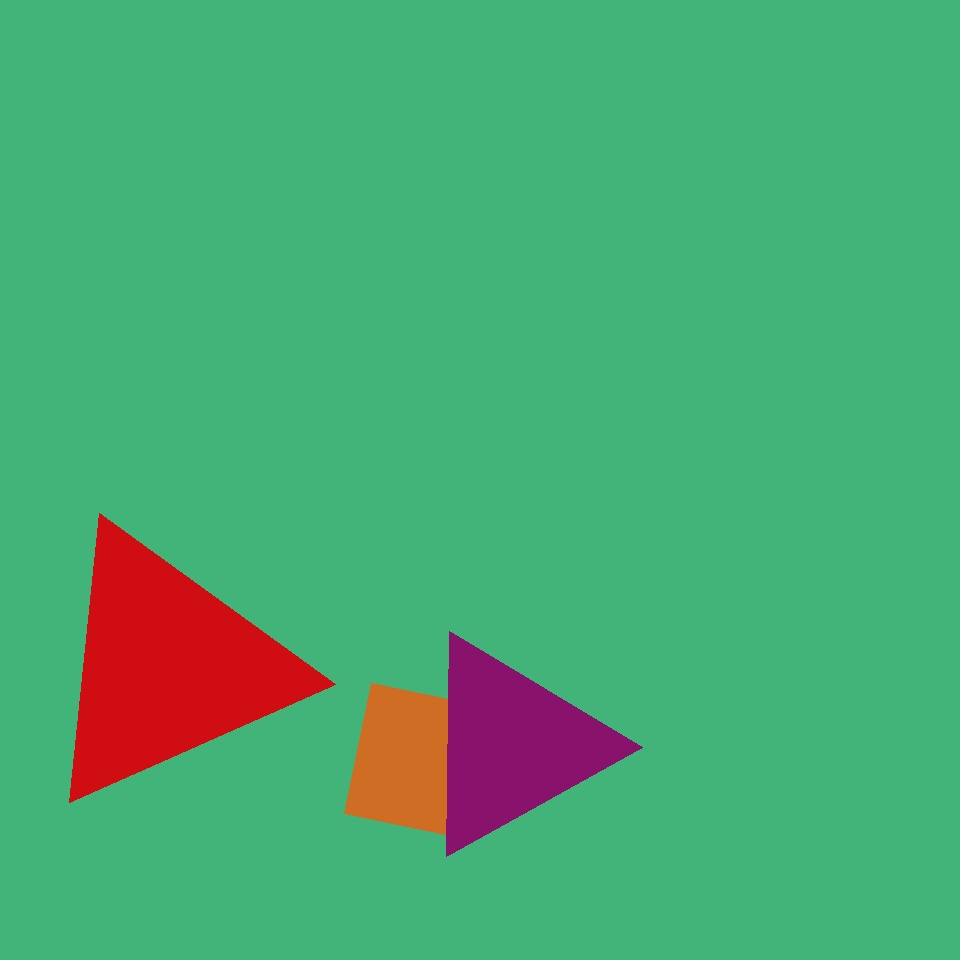circle: (35, 522, 301, 812), (415, 632, 611, 858), (471, 170, 661, 364), (686, 476, 857, 645), (275, 620, 420, 770), (211, 23, 319, 134)
square: (93, 600, 383, 890), (344, 684, 501, 840), (642, 738, 786, 882)
